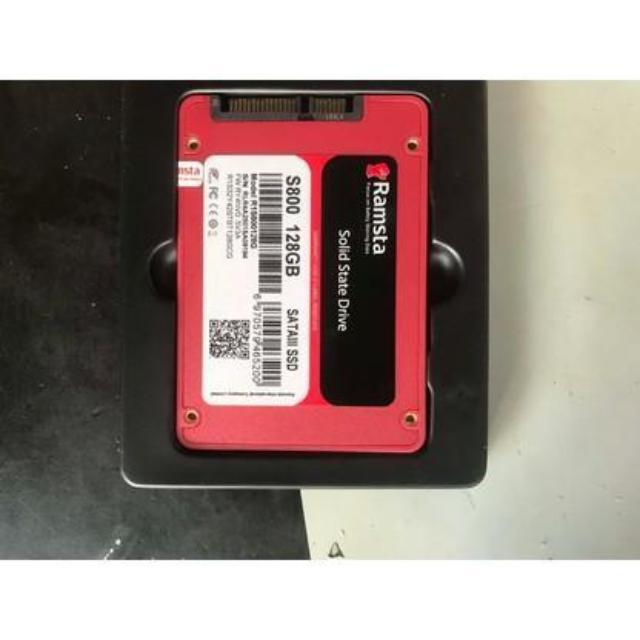DISK: (168, 87, 434, 461)
